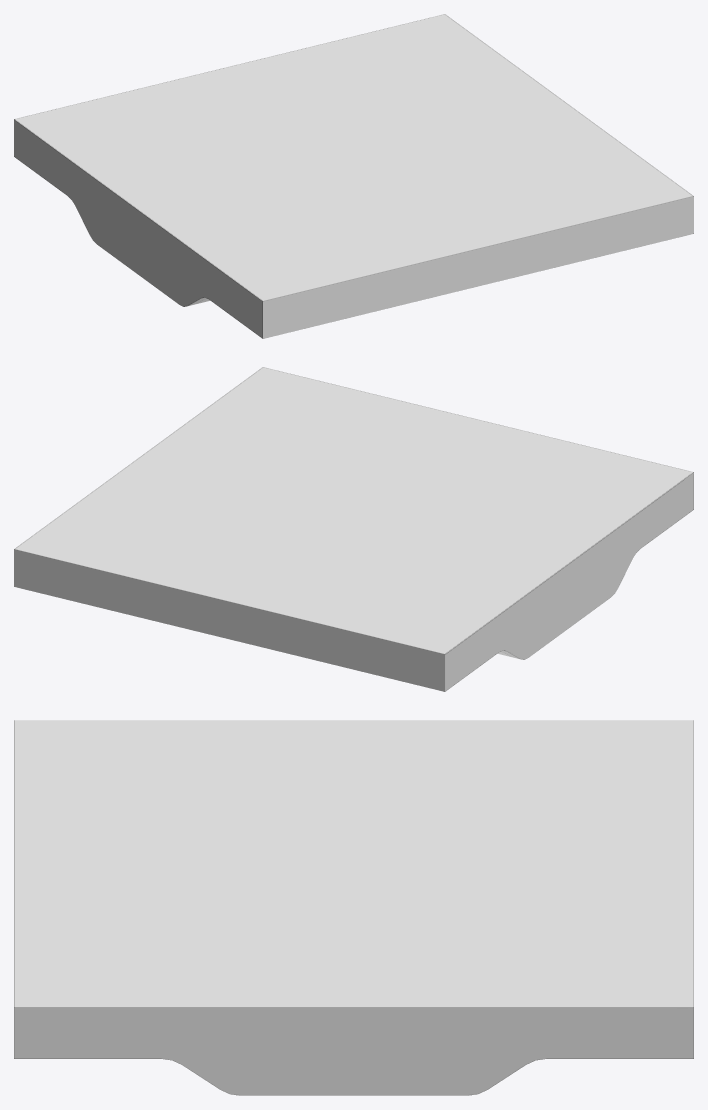
File: Roof_Light_01.FBX
3 views of the same model, one above another, from view 1: azimuth 30°, elevation 25°; view 2: azimuth 150°, elevation 25°; view 3: azimuth 270°, elevation 25° (orthographic). The views are drawn at different scales.
Parts seen in each view (by area): view 1: Roof_Light_01; view 2: Roof_Light_01; view 3: Roof_Light_01.
Boxes of the visible parts, <box> form: Roof_Light_01: <box>14,14,693,338</box>; Roof_Light_01: <box>14,367,693,691</box>; Roof_Light_01: <box>14,720,693,1095</box>.
Bounding box in the file's own units: 12 × 1.72 × 12.
